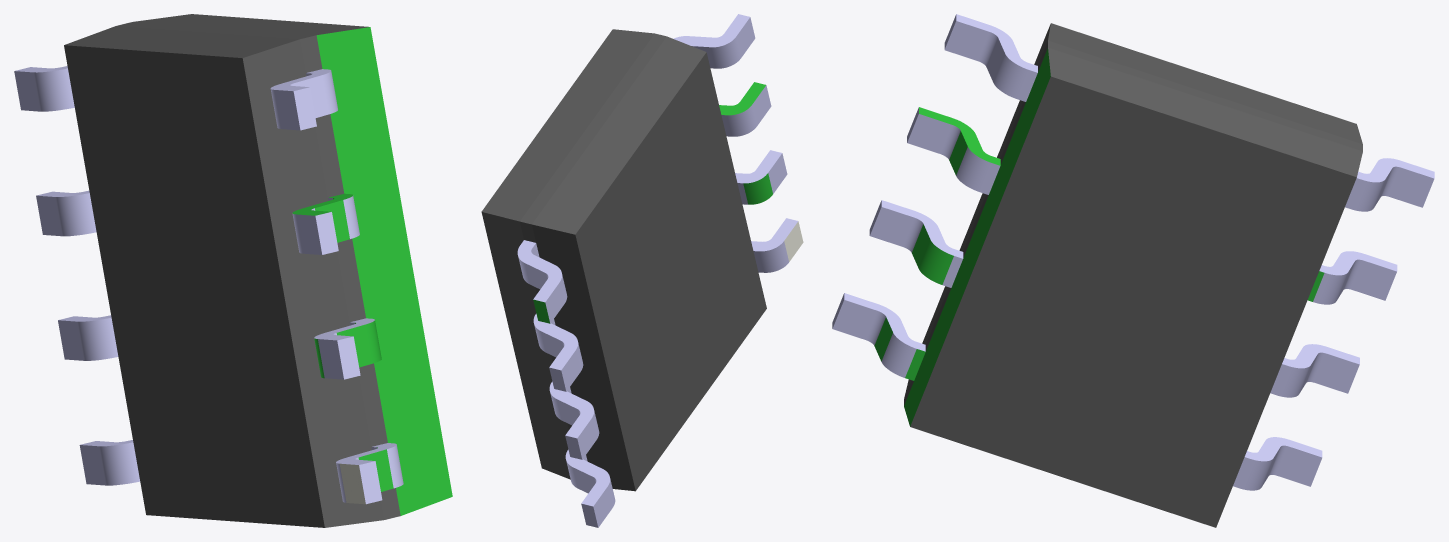
File: EBoxNewAsm_stp_1_IMC413_1_stp_1_IMC413_1_39_stp_1_solid1.obj
The picture shows the model from 3 angles, left to right: view 1: azimuth 30°, elevation 25°; view 2: azimuth 150°, elevation 25°; view 3: azimuth 270°, elevation 25°; orthographic projection. The views are drawn at different scales.
Visible parts, largest first — view 1: mesh9313, mesh9264, mesh9311, mesh9312, mesh9266, mesh9262, mesh9263, mesh9296, mesh9369, mesh9326, mesh9355, mesh9340 (+18 smaller); view 2: mesh9313, mesh9312, mesh9266, mesh9347, mesh9318, mesh9316, mesh9371, mesh9357, mesh9329, mesh9343, mesh9278, mesh9250 (+14 smaller); view 3: mesh9265, mesh9266, mesh9312, mesh9264, mesh9316, mesh9352, mesh9253, mesh9366, mesh9301, mesh9323, mesh9272, mesh9337 (+18 smaller).
Boxes of the visible parts, x1,y1,x2,y2 form: mesh9313: (64,45,324,527); mesh9264: (316,27,452,515); mesh9311: (242,39,383,527); mesh9312: (64,26,298,57); mesh9266: (133,14,368,35); mesh9262: (315,114,344,197); mesh9263: (337,238,365,321); mesh9296: (359,363,387,446); mesh9369: (33,68,74,111); mesh9326: (99,442,139,485); mesh9355: (55,193,95,236); mesh9340: (77,318,117,360); mesh9313: (575,52,766,490); mesh9312: (532,36,706,234); mesh9266: (481,29,654,221); mesh9347: (532,224,635,491); mesh9318: (481,212,570,479); mesh9316: (520,33,666,224); mesh9371: (517,240,561,302); mesh9357: (533,313,578,370); mesh9329: (565,449,610,506); mesh9343: (549,381,594,438); mesh9278: (673,14,749,47); mesh9250: (727,105,756,136); mesh9265: (910,76,1356,527); mesh9266: (1048,47,1362,177); mesh9312: (1048,23,1362,144); mesh9264: (904,48,1050,426); mesh9316: (1048,41,1362,151); mesh9352: (1352,261,1396,300); mesh9253: (907,114,951,153); mesh9366: (1389,168,1434,207); mesh9301: (870,207,914,246); mesh9323: (1277,446,1321,486); mesh9272: (944,21,989,60); mesh9337: (1315,353,1359,393).
Bounding box in the file's own units: 0.00152 × 0.00598 × 0.007.
